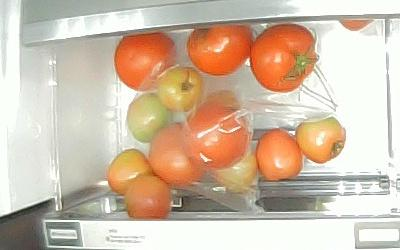tomato: (251, 24, 319, 93), (187, 21, 252, 75), (296, 114, 348, 165), (257, 129, 303, 180), (124, 175, 171, 220), (107, 149, 152, 195)
tomato_vinyl: (186, 90, 251, 169), (114, 30, 176, 92), (151, 121, 205, 189), (126, 93, 174, 143), (209, 151, 258, 195), (159, 67, 204, 113)
